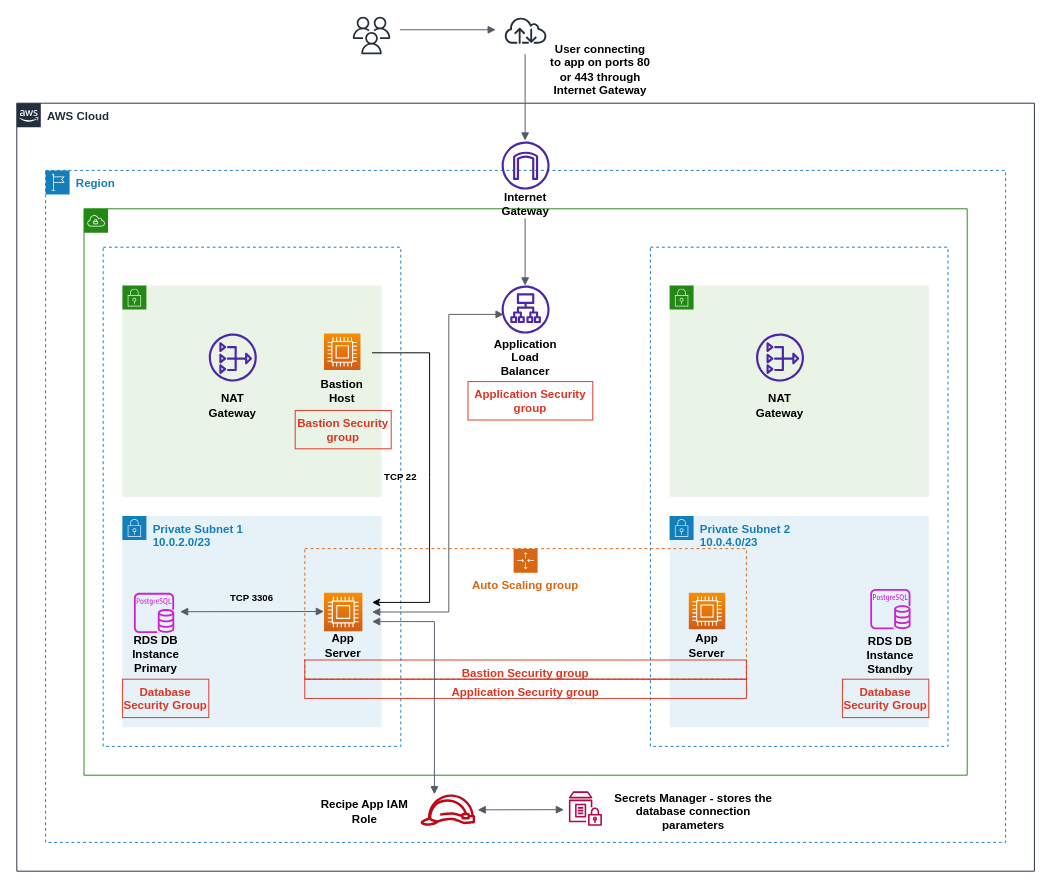
This 1051x888 diagram has some shape labels left out. Here are the shapes that lost their labels. From the top down, the box of each, then its label:
(121, 285, 382, 497): Public Subnet 1 10.0.1.0/24
(669, 285, 929, 497): Public Subnet 10.0.1.0/24
(102, 246, 401, 746): Availability Zone 1a
(83, 208, 967, 775): VPC 10.0.0.0/16
(649, 246, 948, 746): Availability Zone 1b
